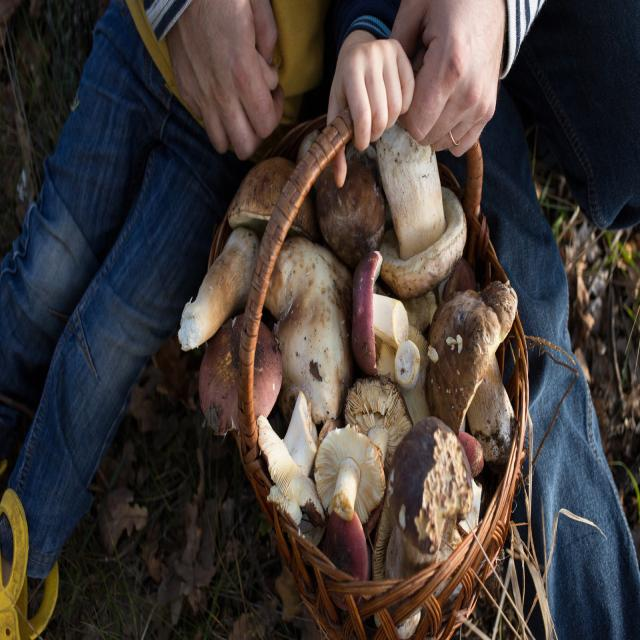Mushroom: (196, 138, 553, 616)
